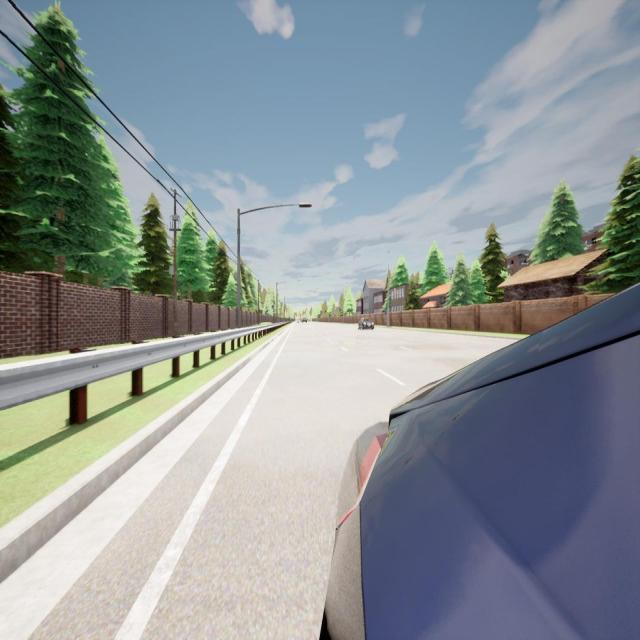Vehicle: (326, 284, 640, 638), (358, 319, 374, 330), (302, 318, 307, 323), (297, 320, 299, 323)
